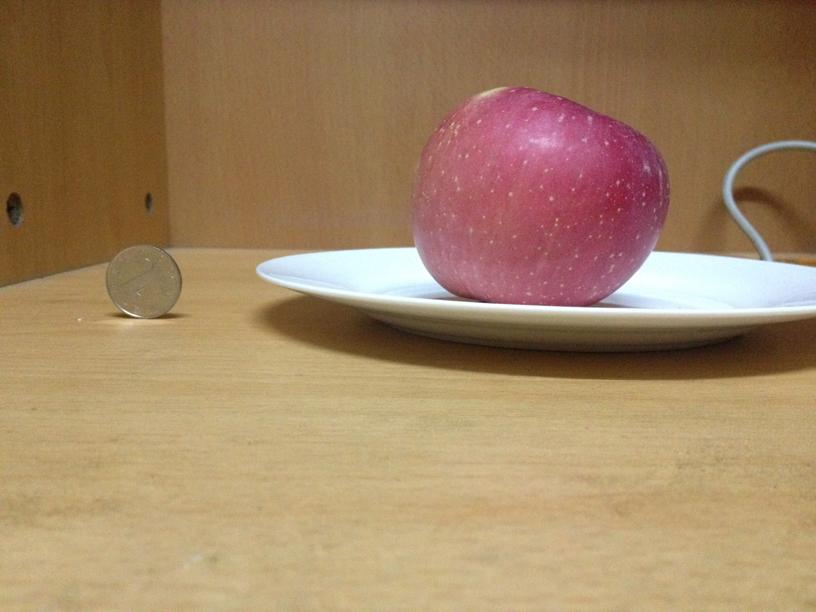apple: (405, 83, 670, 305)
coin: (106, 242, 182, 320)
